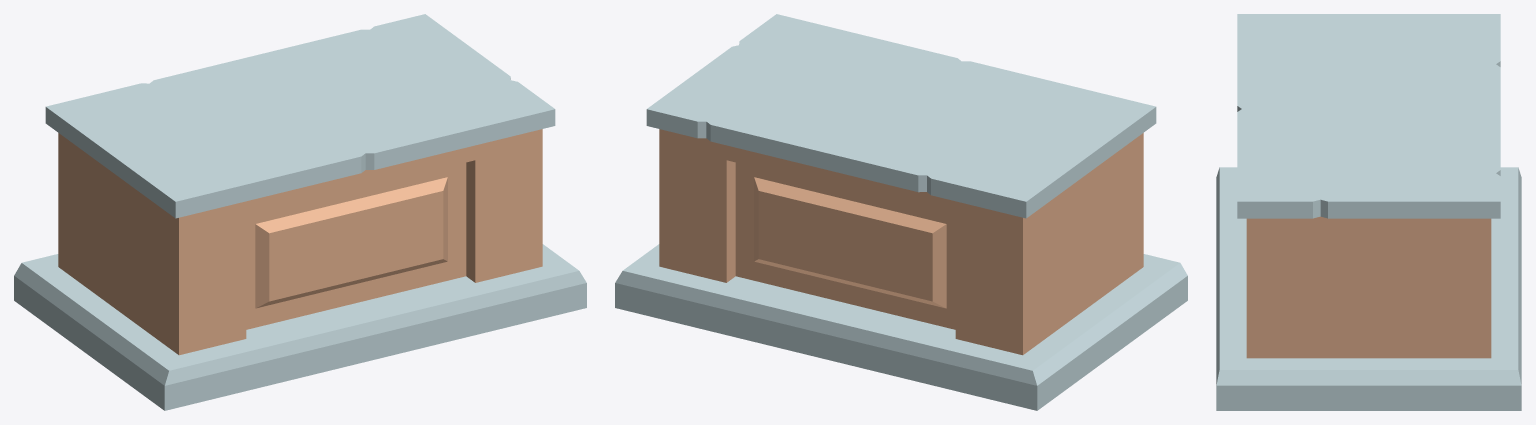
The model's file is altarWood.glb.
The picture shows the model from 3 angles, left to right: view 1: azimuth 30°, elevation 25°; view 2: azimuth 150°, elevation 25°; view 3: azimuth 270°, elevation 25°; orthographic projection.
Parts seen in each view (by area): view 1: altarWood; view 2: altarWood; view 3: altarWood.
Part boxes in pixels (box(x1,y1,x2,y2)): altarWood: box(14, 14, 586, 410); altarWood: box(615, 14, 1187, 410); altarWood: box(1216, 14, 1521, 410).
Bounding box in the file's own units: 1.06 × 0.47 × 0.6532.
